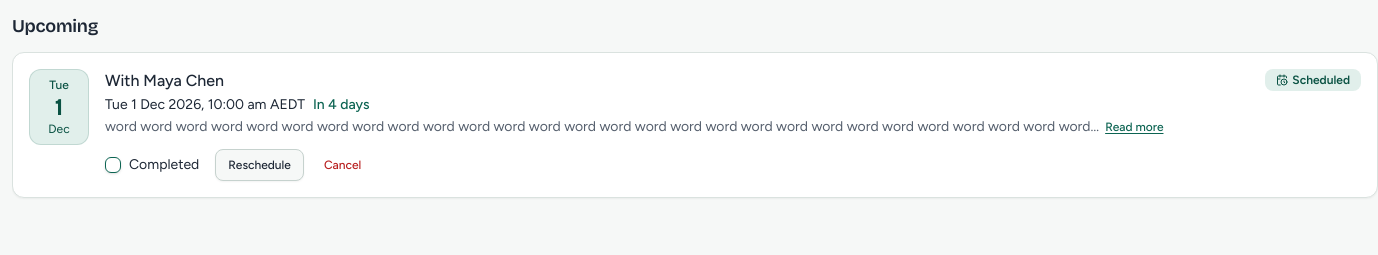
Test case: what a card shows › folds a long reason behind Read more, and opens and closes it
Click the button "Read more".
click(1134, 127)  # box [1105,119,1163,135]
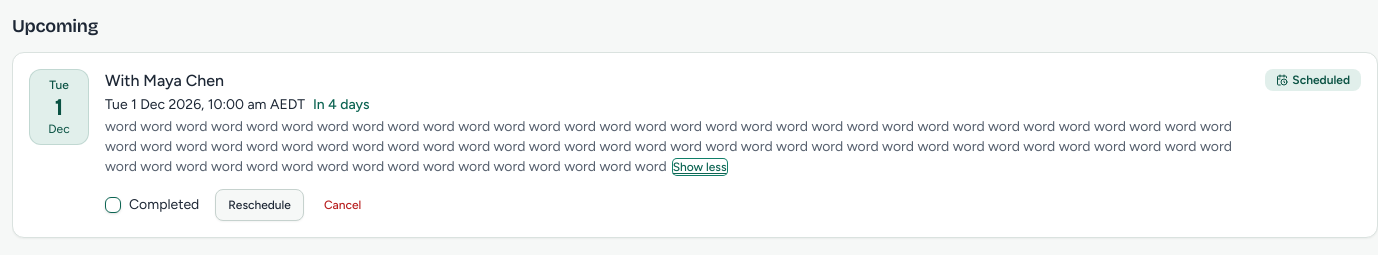
Click the button "Show less".
click(700, 167)  # box [673,159,726,175]
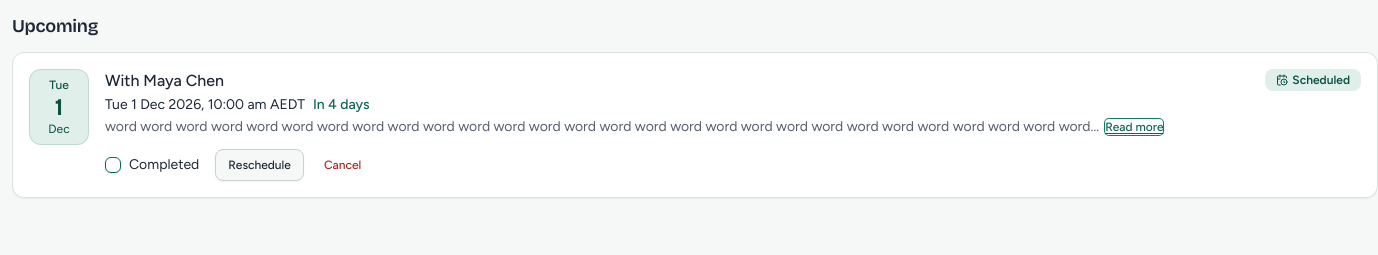
Now the button "Read more" is collapsed, box [1105,119,1163,135]
